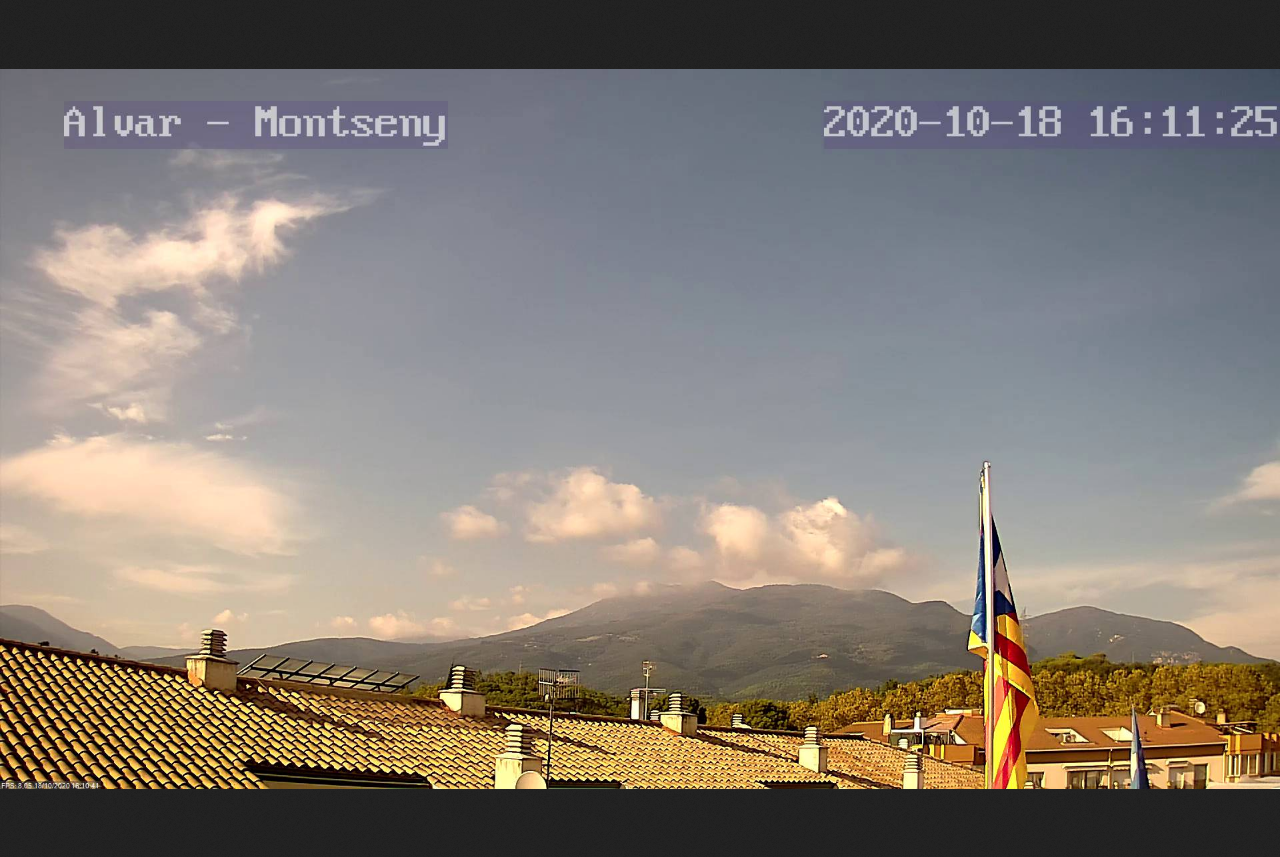no: (959, 445, 1047, 797)
